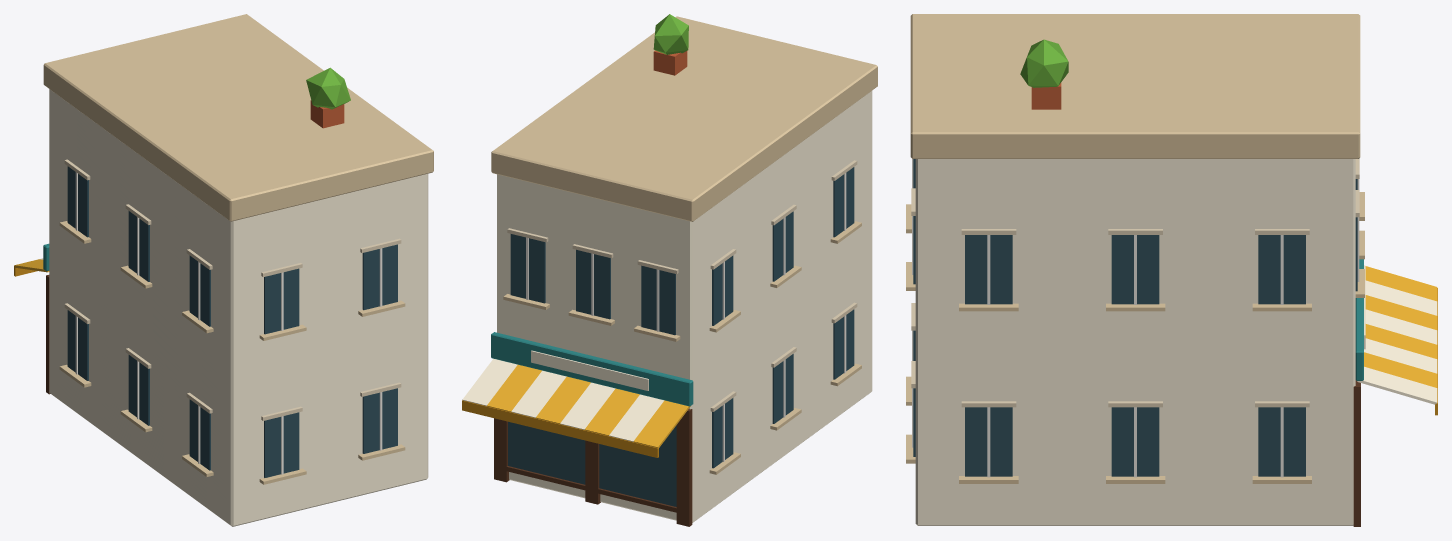
The model's file is shop_a.glb.
3 views of the same model, side by side, from view 1: azimuth 30°, elevation 25°; view 2: azimuth 150°, elevation 25°; view 3: azimuth 270°, elevation 25° (orthographic). The views are drawn at different scales.
Visible parts, largest first — view 1: shop; view 2: shop; view 3: shop.
Boxes of the visible parts, left/top/right/bottom form: shop: left=14, top=14, right=433, bottom=526; shop: left=462, top=14, right=877, bottom=526; shop: left=906, top=14, right=1437, bottom=526.
Bounding box in the file's own units: 4.92 × 8.55 × 8.95.
